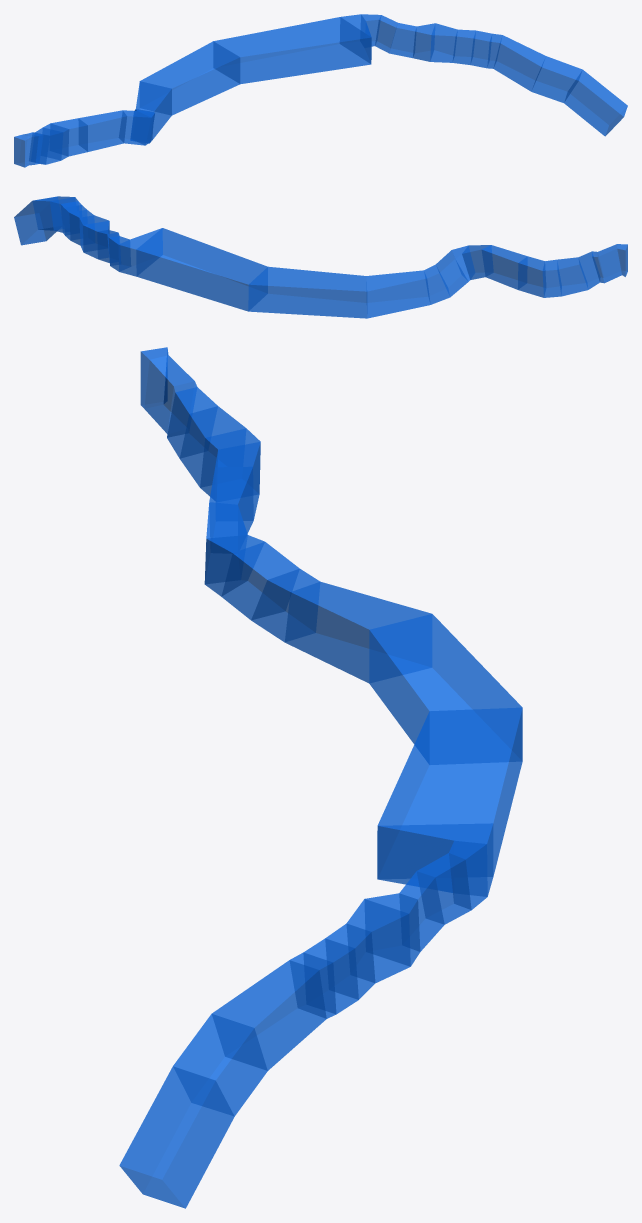
The model's file is RiverCollisionMesh.fbx.
3 views of the same model, one above another, from view 1: azimuth 30°, elevation 25°; view 2: azimuth 150°, elevation 25°; view 3: azimuth 270°, elevation 25° (orthographic). The views are drawn at different scales.
Visible parts, largest first — view 1: River; view 2: River; view 3: River.
Boxes of the visible parts, left/top/right/bottom form: River: left=14, top=14, right=627, bottom=167; River: left=14, top=196, right=627, bottom=318; River: left=119, top=347, right=522, bottom=1208.
Size of the model in its own units: 713 by 154 by 203.
